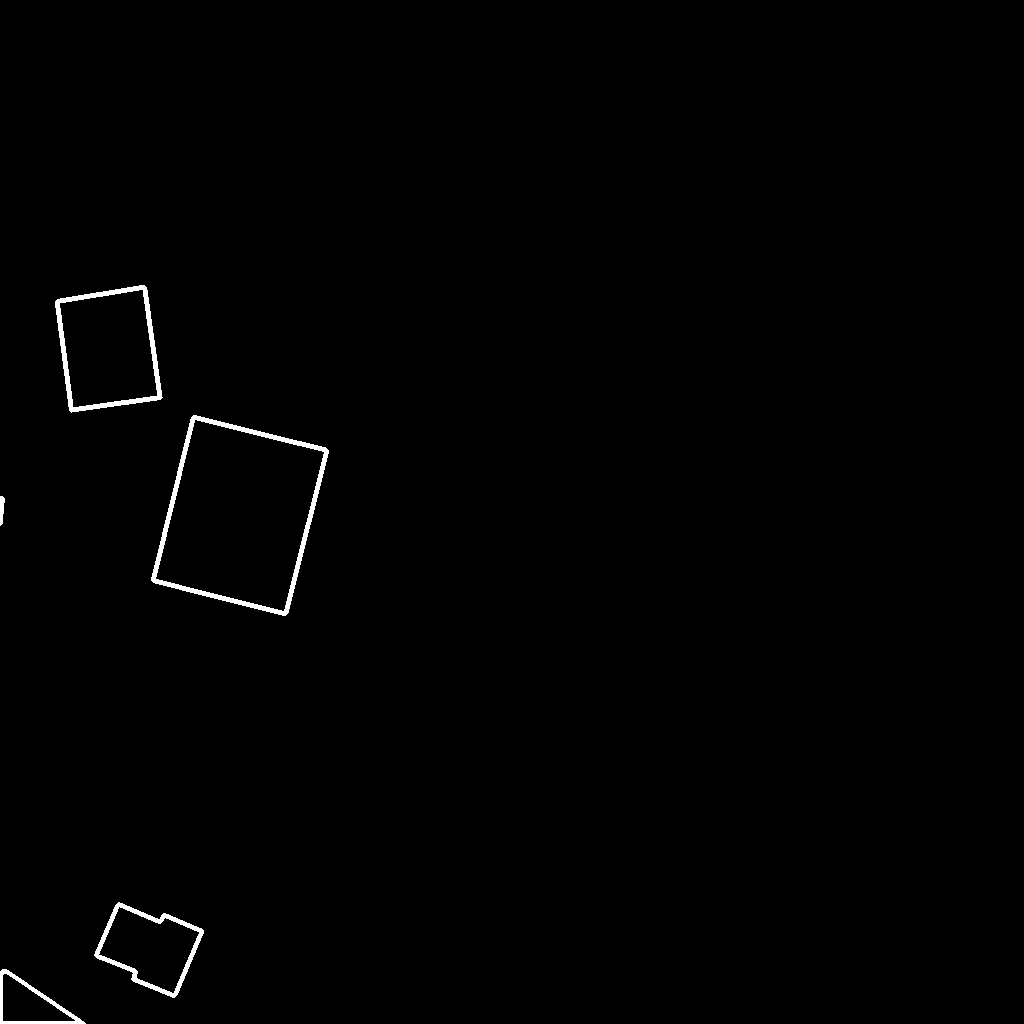building: (153, 417, 328, 615), (57, 287, 161, 411), (96, 904, 203, 997), (0, 970, 85, 1024), (0, 498, 4, 530)
